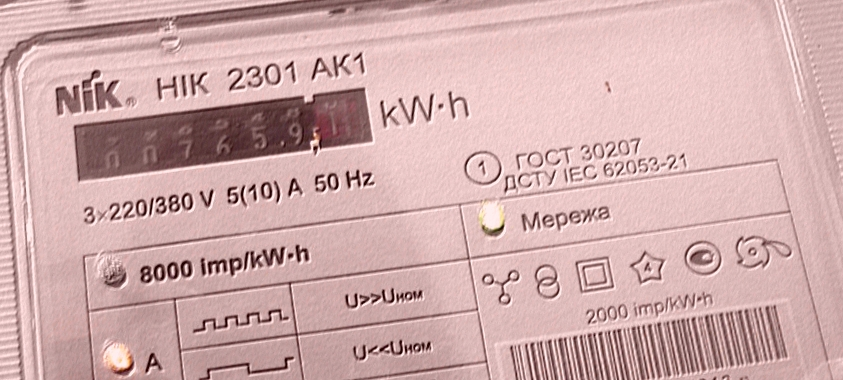0: (102, 146, 124, 174), (140, 141, 162, 168)
1: (326, 106, 344, 140)
5: (247, 122, 273, 152)
6: (212, 131, 235, 157)
7: (176, 136, 199, 164)
9: (285, 119, 307, 148)
screen: (60, 68, 388, 204)
